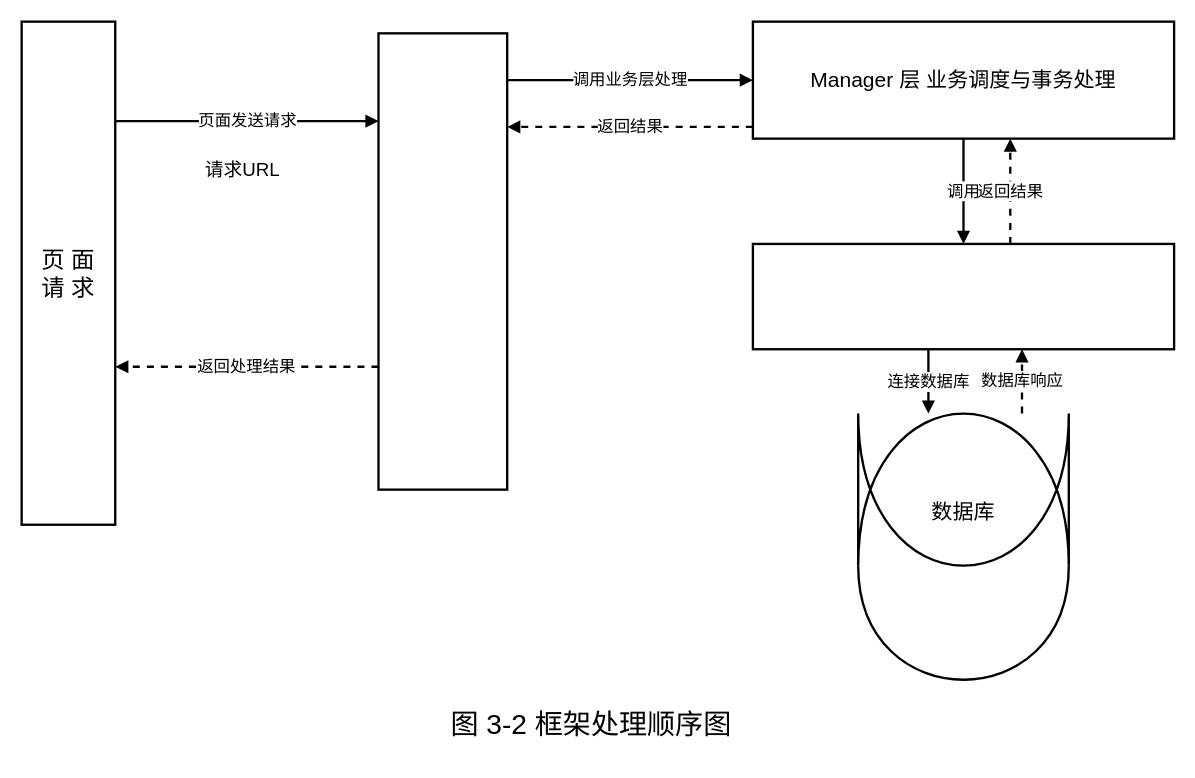
Image size: 1195x778. Some labels were removed from this diagram. Here are the shapes that lost their labels. From the top down, the box of each, then its label:
(377, 32, 508, 490): 根据URL匹配请求 Action 控制器
(751, 242, 1175, 350): Domain / DAO 层 DeviceDao、ReadingDao、AlertDao、WorkOrderDao
